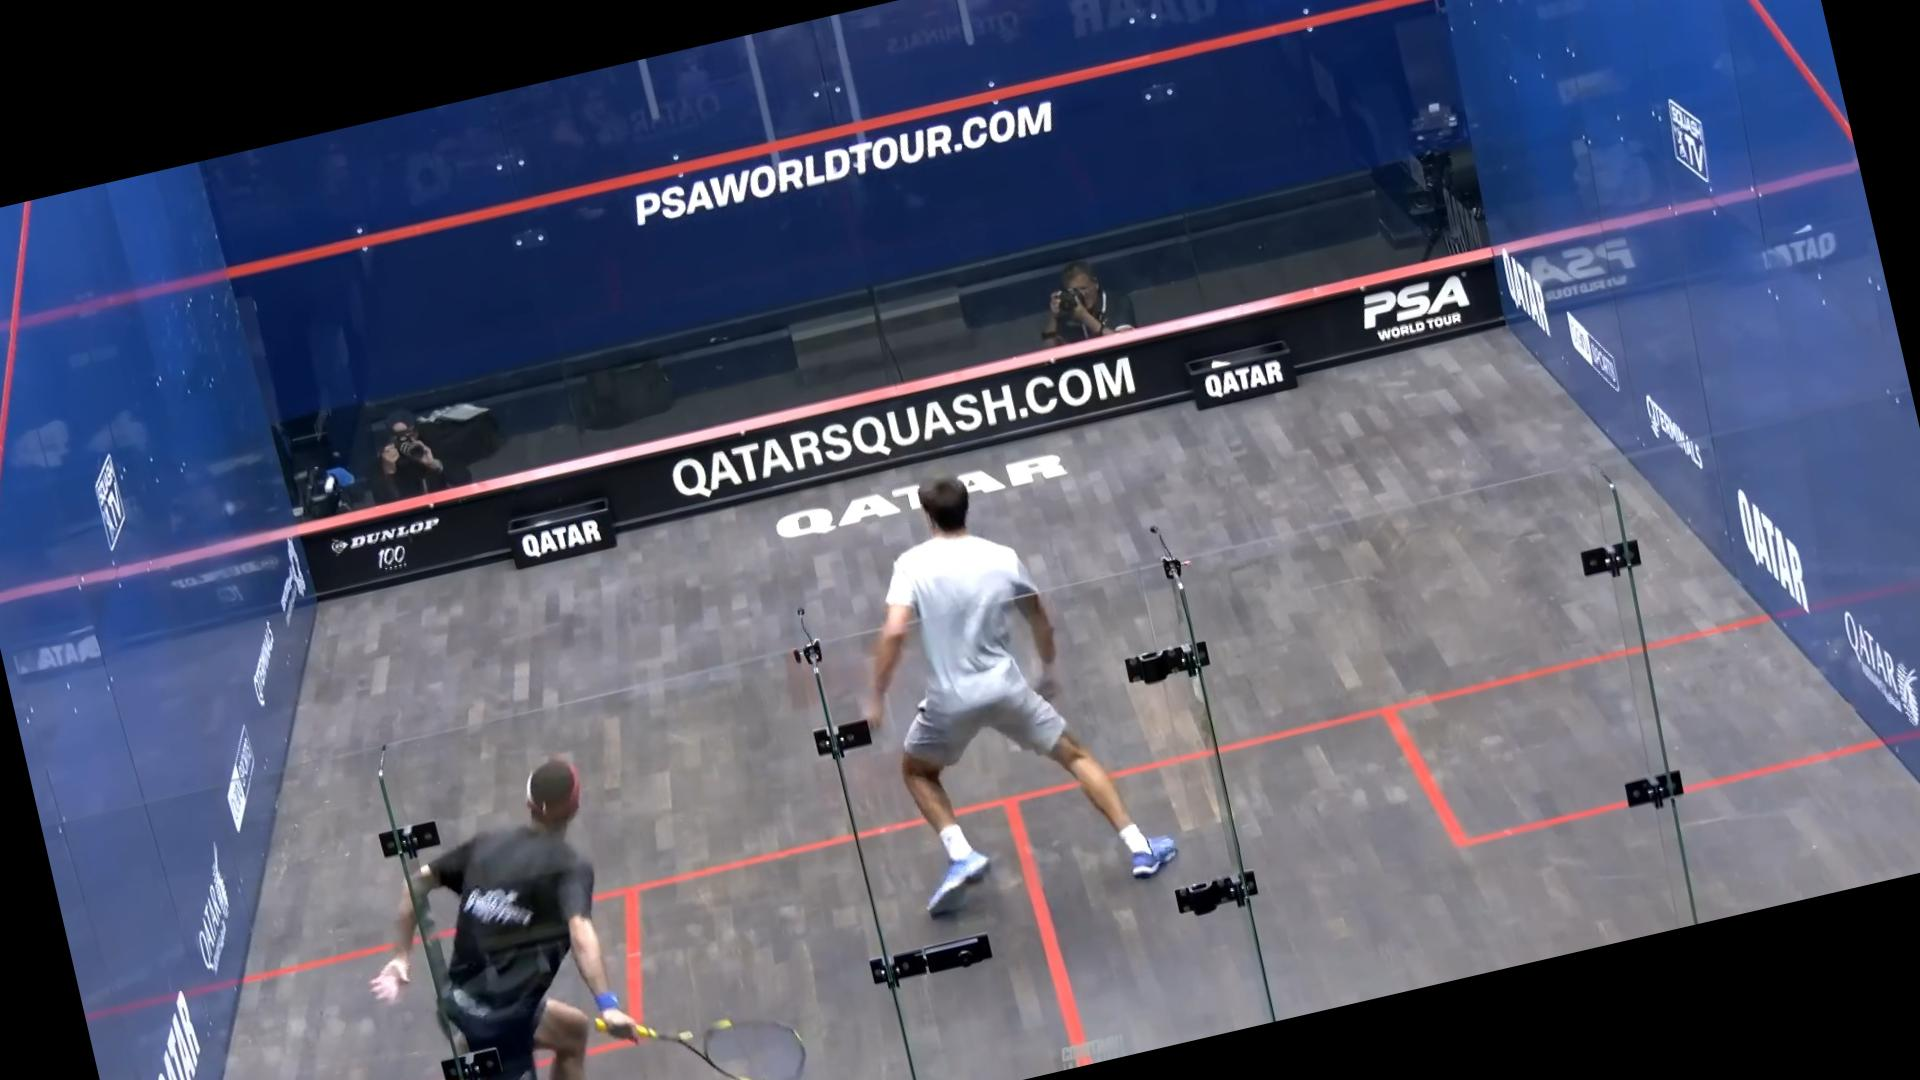Racket: (640, 978, 822, 1080)
